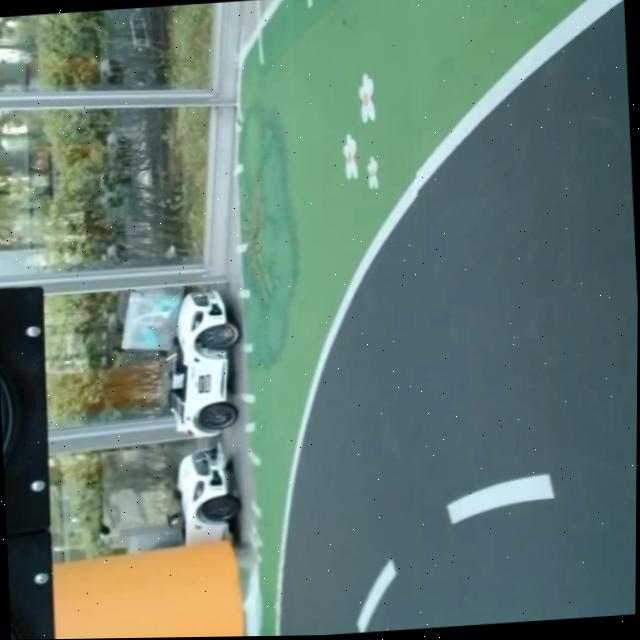traffic-light: (0, 274, 68, 640)
